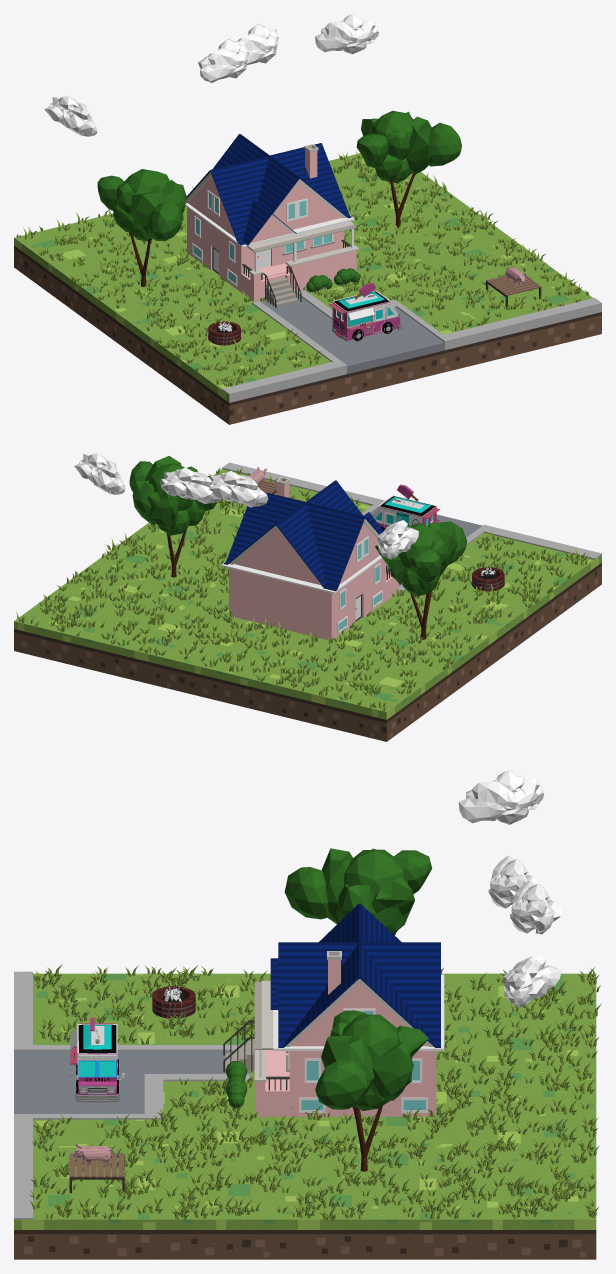
3 renders of one model, top to bottom at view 1: azimuth 30°, elevation 25°; view 2: azimuth 150°, elevation 25°; view 3: azimuth 270°, elevation 25°, orthographic. The views are drawn at different scales.
Parts seen in each view (by area): view 1: Cube.006, Cube.313, Circle.012_Grass_0.192, Cube.007, tree, tree.001, VEHICLES_ICE_CREAM_TRUCK, Cube.009, OBJRANDOM_CAMPFIRE; view 2: Cube.006, Cube.313, Circle.012_Grass_0.192, Cube.007, tree.001, tree, VEHICLES_ICE_CREAM_TRUCK, OBJRANDOM_CAMPFIRE; view 3: Cube.006, Circle.012_Grass_0.192, Cube.313, tree, Cube.007, tree.001, VEHICLES_ICE_CREAM_TRUCK, Cube.009, OBJRANDOM_CAMPFIRE.
Boxes of the visible parts, box(x1,y1,x2,y2) form: Cube.006: box(14, 153, 601, 424); Cube.313: box(185, 134, 359, 308); Circle.012_Grass_0.192: box(16, 150, 588, 386); Cube.007: box(44, 14, 378, 136); tree: box(356, 110, 461, 228); tree.001: box(97, 169, 186, 286); VEHICLES_ICE_CREAM_TRUCK: box(329, 282, 403, 341); Cube.009: box(486, 275, 541, 306); OBJRANDOM_CAMPFIRE: box(208, 319, 241, 345); Cube.006: box(14, 462, 601, 741); Cube.313: box(221, 477, 398, 640); Circle.012_Grass_0.192: box(16, 468, 588, 711); Cube.007: box(74, 453, 418, 559); tree.001: box(375, 521, 467, 639); tree: box(129, 456, 216, 577); VEHICLES_ICE_CREAM_TRUCK: box(372, 484, 440, 530); OBJRANDOM_CAMPFIRE: box(472, 567, 504, 591); Cube.006: box(14, 971, 596, 1259); Circle.012_Grass_0.192: box(29, 964, 601, 1220); Cube.313: box(223, 903, 444, 1116); tree: box(315, 1010, 428, 1171); Cube.007: box(458, 770, 561, 1007); tree.001: box(284, 848, 432, 935); VEHICLES_ICE_CREAM_TRUCK: box(70, 1017, 124, 1102); Cube.009: box(69, 1153, 124, 1193); OBJRANDOM_CAMPFIRE: box(152, 984, 195, 1018).
Size of the model in its own units: 4071 by 2192 by 4040.
Materials: 45 (3 with a texture image).
